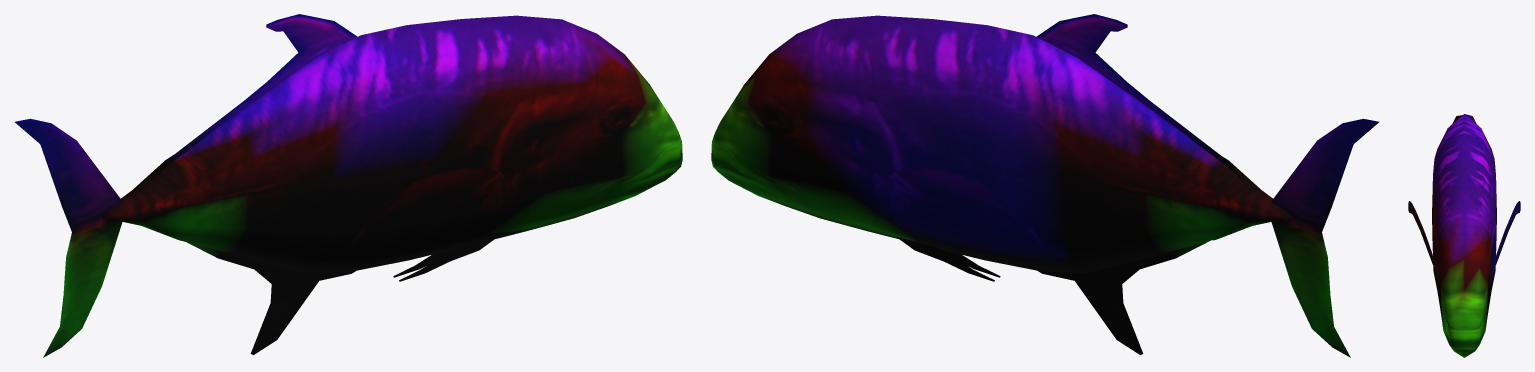
File: giant_trevally.glb
3 renders of one model, left to right at view 1: azimuth 30°, elevation 25°; view 2: azimuth 150°, elevation 25°; view 3: azimuth 270°, elevation 25°, orthographic. The views are drawn at different scales.
Parts seen in each view (by area): view 1: GiantTrevally; view 2: GiantTrevally; view 3: GiantTrevally.
Boxes of the visible parts, x1,y1,x2,y2 form: GiantTrevally: (15,14,682,357); GiantTrevally: (711,14,1378,357); GiantTrevally: (1408,114,1520,357).
Size of the model in its own units: 1 by 0.4749 by 0.2268.
Materials: 1 (1 with a texture image).
